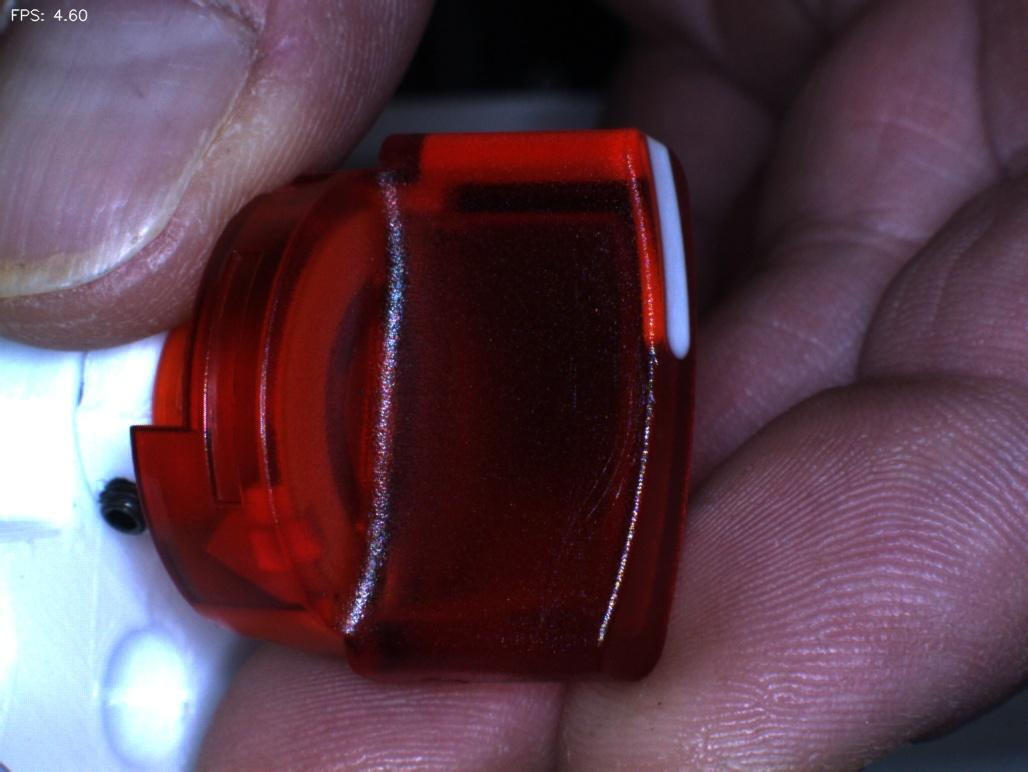Givrage: (562, 349, 640, 551)
